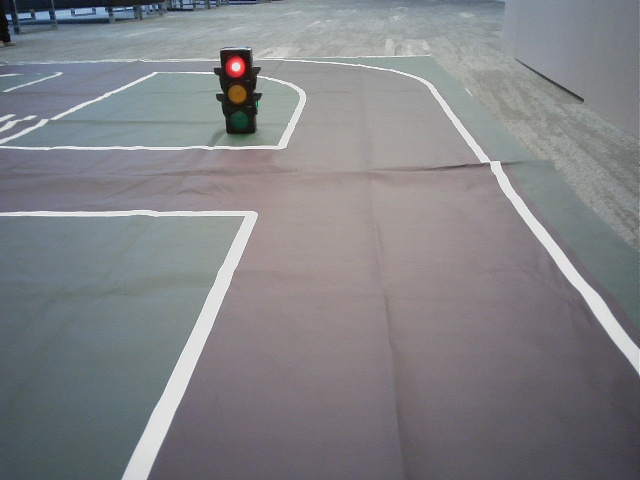red: (223, 53, 252, 132)
